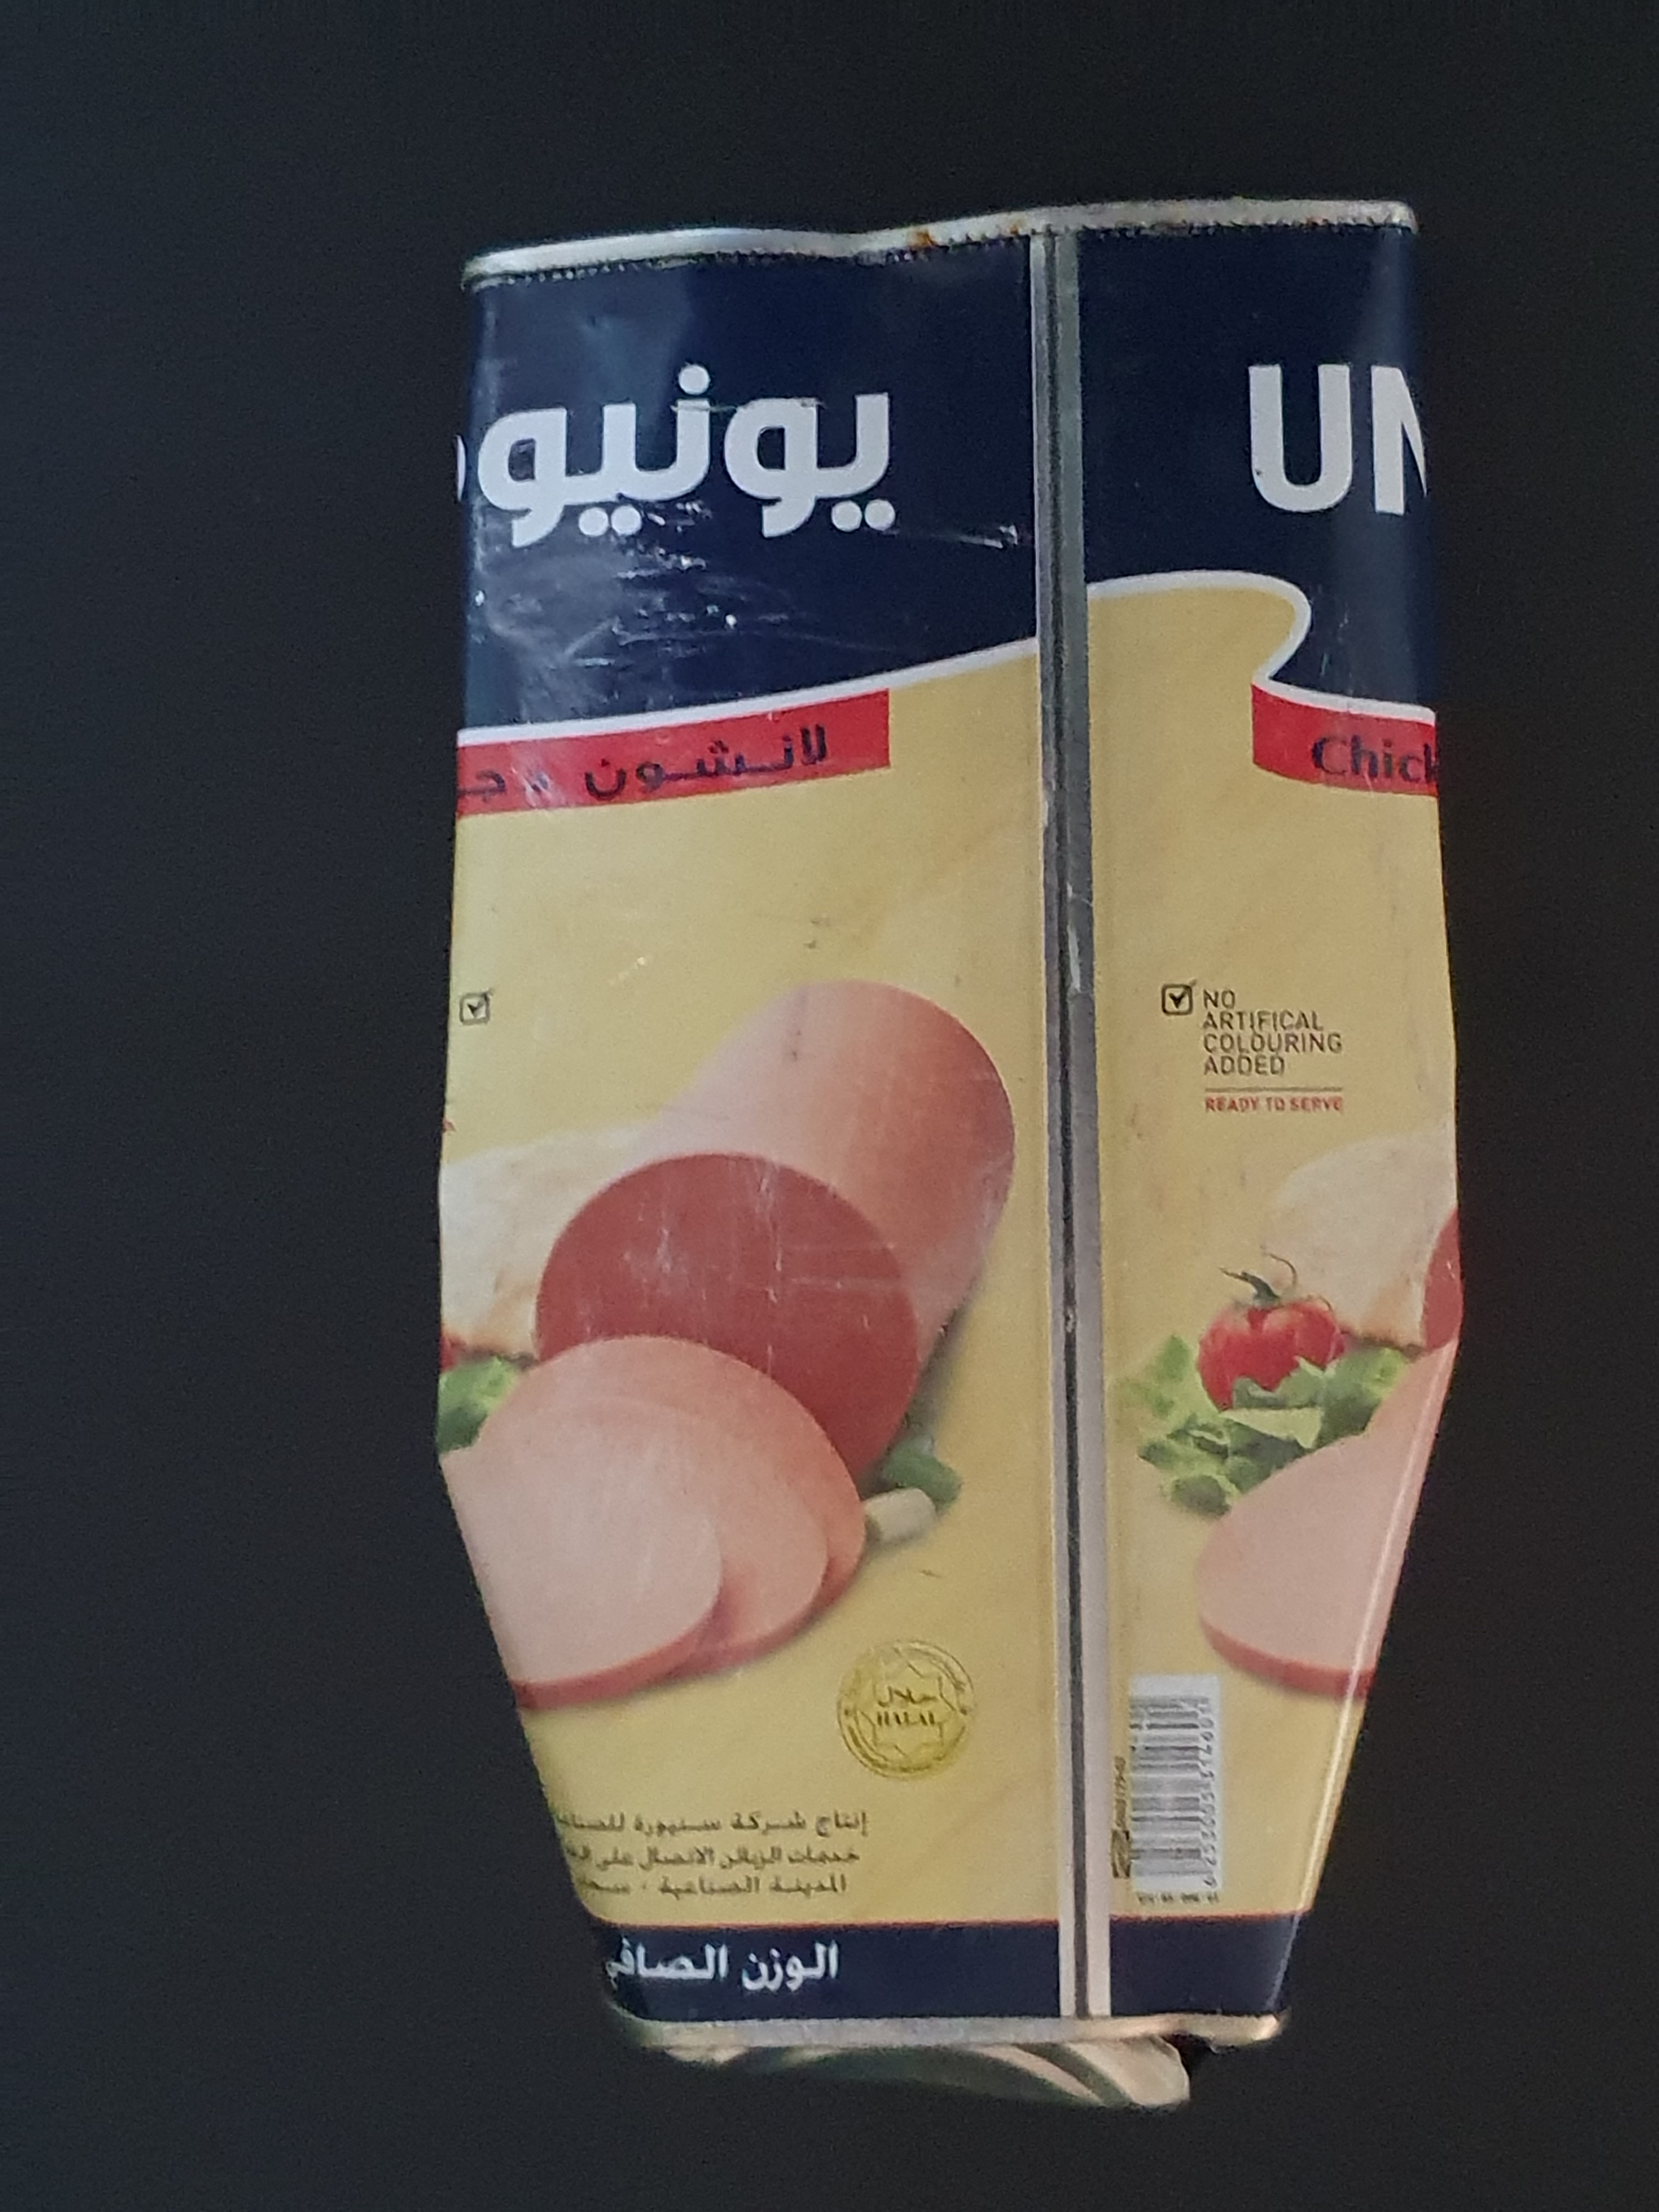metal: (383, 139, 1535, 2153)
